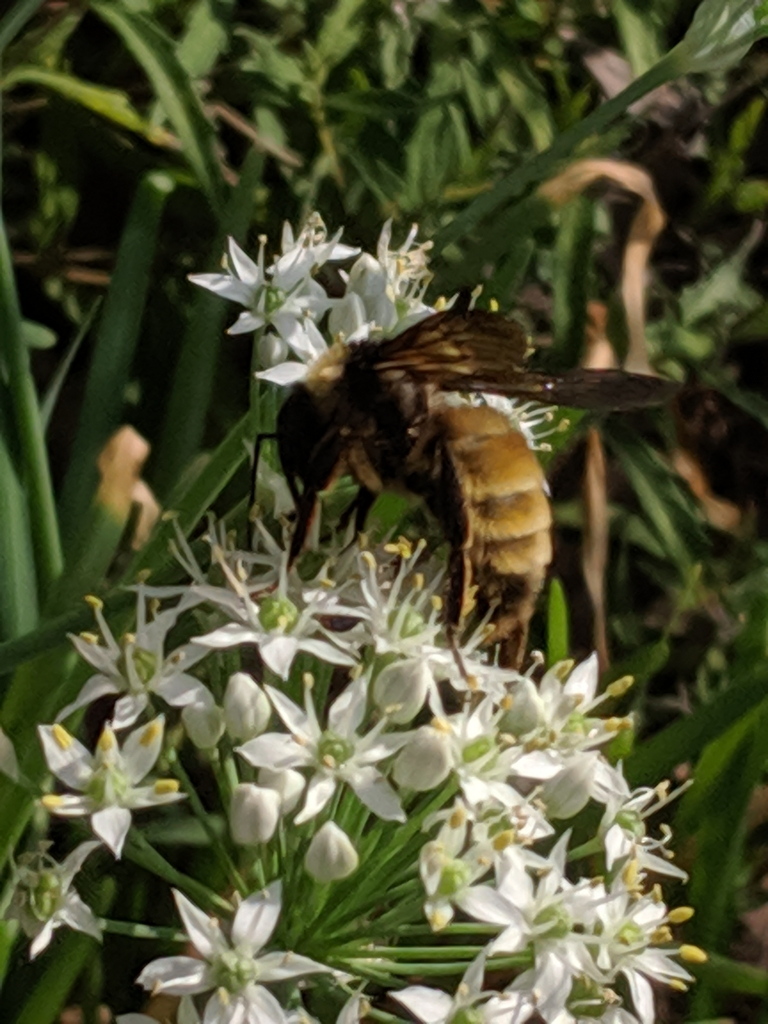bumblebee: (241, 308, 684, 662)
